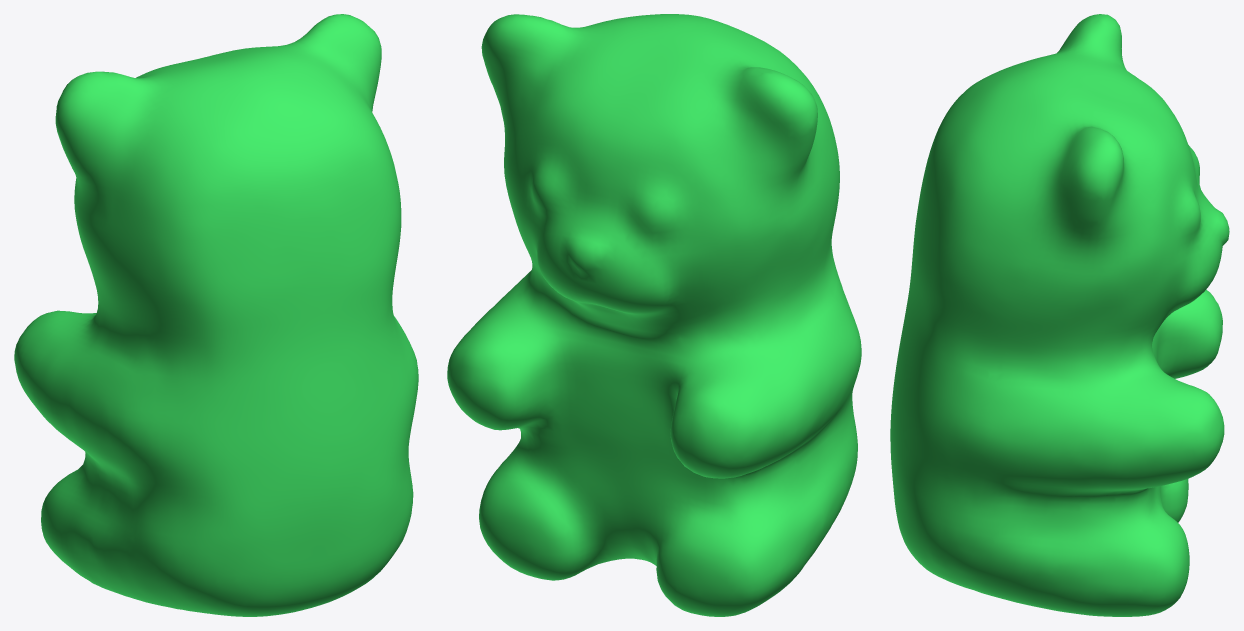
The model's file is gummybear150.fbx.
3 views of the same model, side by side, from view 1: azimuth 30°, elevation 25°; view 2: azimuth 150°, elevation 25°; view 3: azimuth 270°, elevation 25° (orthographic). The views are drawn at different scales.
Visible parts, largest first — view 1: gummy bear.150; view 2: gummy bear.150; view 3: gummy bear.150.
Boxes of the visible parts, box(x1,y1,x2,y2) form: gummy bear.150: box(14, 14, 418, 616); gummy bear.150: box(447, 14, 861, 616); gummy bear.150: box(890, 14, 1229, 616).
Bounding box in the file's own units: 427 × 655 × 404.
